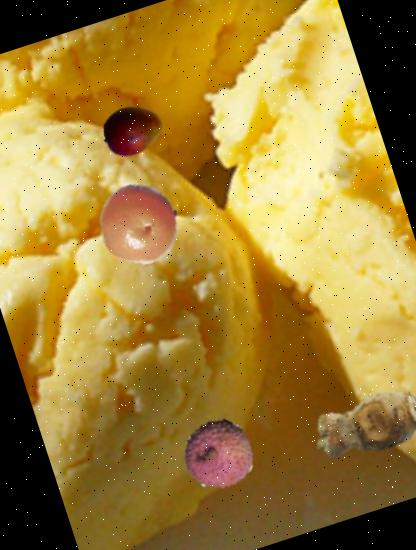Ginger: (296, 347, 416, 501)
Lychee: (175, 410, 264, 499)
Mango: (96, 93, 172, 169)
Tangelo: (89, 172, 192, 275)
